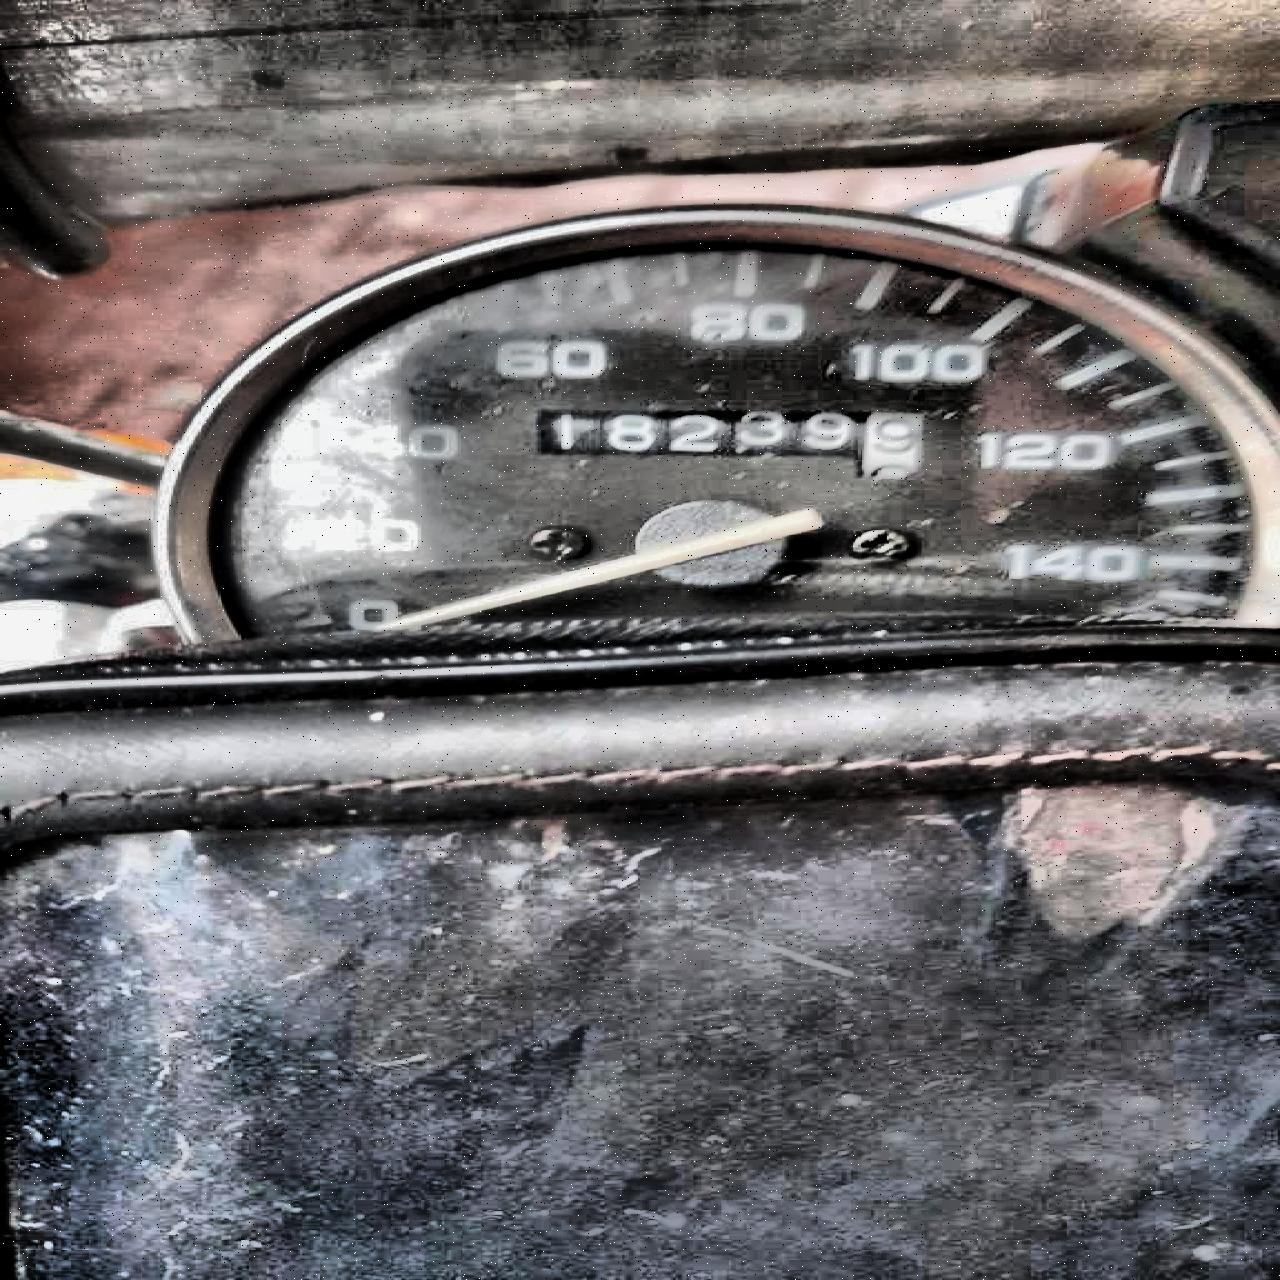1: (544, 409, 580, 454)
2: (669, 413, 719, 454)
3: (735, 409, 787, 448)
8: (600, 414, 653, 452)
9: (866, 416, 918, 456), (798, 413, 849, 451)
odometer: (529, 406, 933, 481)
